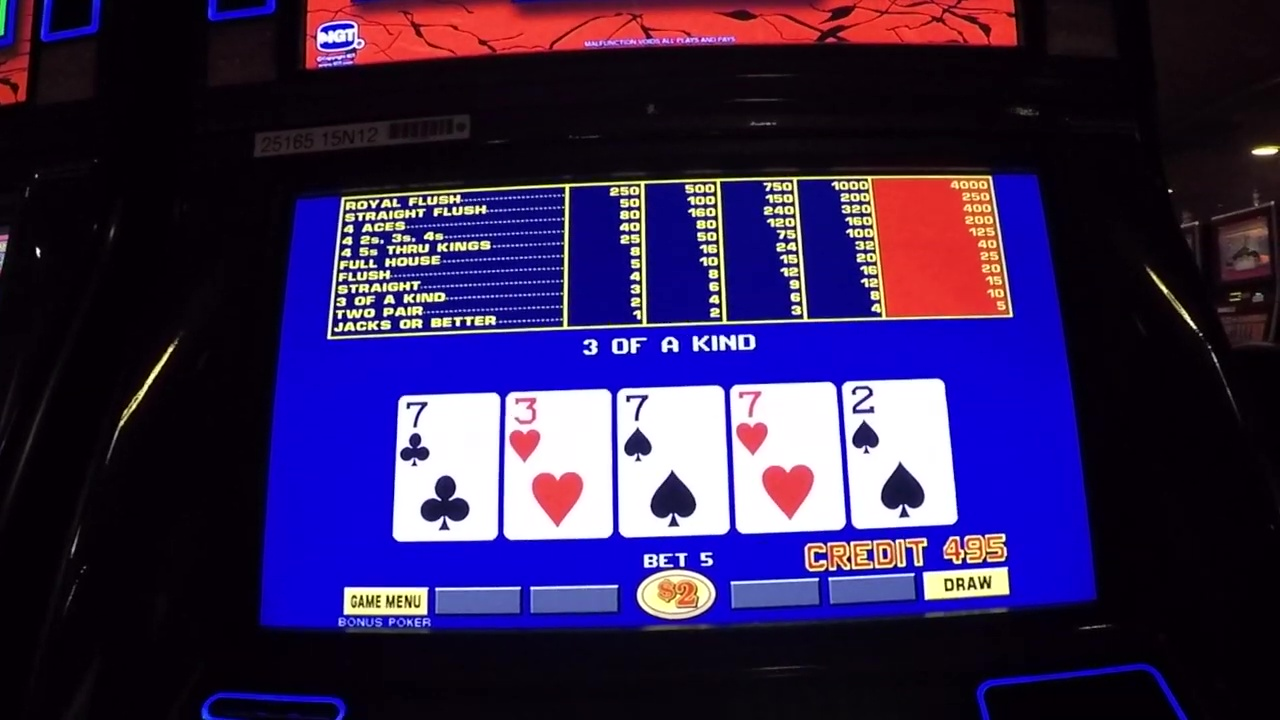C7: (399, 396, 498, 473)
H3: (505, 391, 610, 466)
H7: (732, 383, 836, 457)
S2: (849, 384, 946, 454)
S7: (621, 390, 724, 464)
